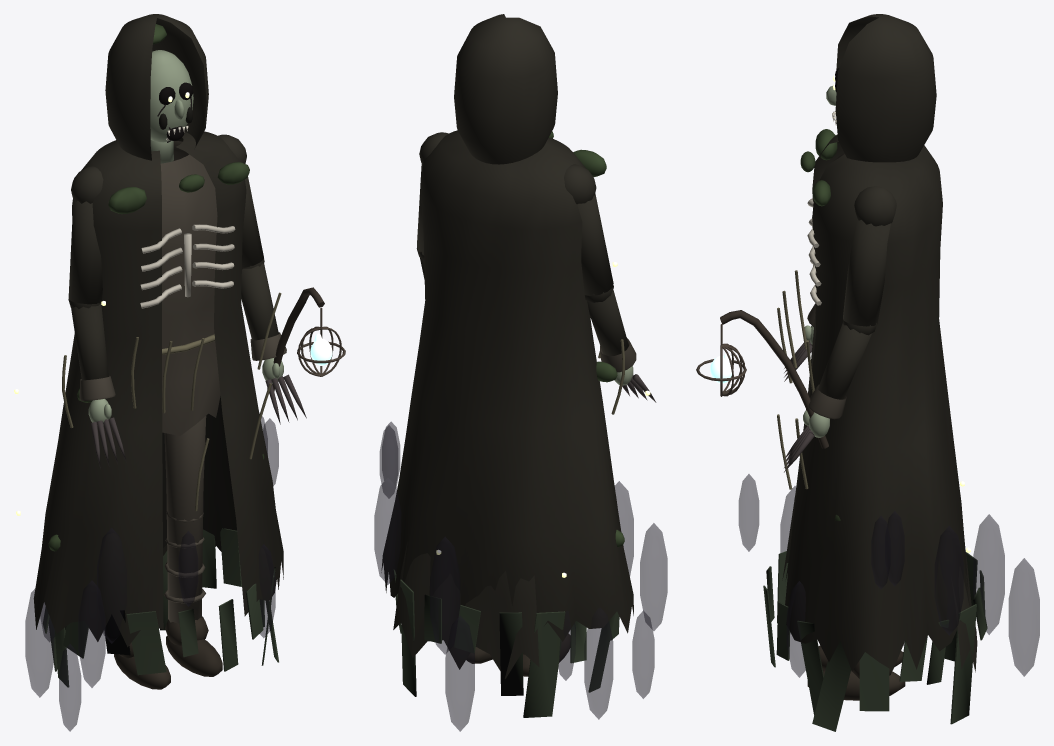
Rendered from bog_lantern_man.glb.
3 renders of one model, left to right at view 1: azimuth 30°, elevation 25°; view 2: azimuth 150°, elevation 25°; view 3: azimuth 270°, elevation 25°, orthographic. The views are drawn at different scales.
Visible parts, largest first — view 1: Cloak, Tunic, LanternMan_Root_HSmoke, LanternMan_Root_HRag_0c110a, Hood, LegB_MudRags, ArmA_PeatCloak, CloakIn, ArmB_PeatCloak, Head_GauntSkin, LanternMan_Root_HBone, LanternMan_Root_Reed (+10 smaller); view 2: Cloak, LanternMan_Root_HSmoke, Hood, LanternMan_Root_HRag_0c110a, CloakBack, ArmA_PeatCloak, LanternMan_Root_Moss, ArmB_PeatCloak, CuffArmA; view 3: Cloak, LanternMan_Root_HSmoke, Hood, LanternMan_Root_HRag_0c110a, ArmB_PeatCloak, LanternMan_Root_Reed, Stick, LanternMan_Root_Moss, CloakBack, ArmB_RustIron, CuffArmB, LegB_Mud (+1 smaller).
Boxes of the visible parts, x1,y1,x2,y2 form: Cloak: (33,131,283,647); Tunic: (160,141,220,435); LanternMan_Root_HSmoke: (25,413,278,731); LanternMan_Root_HRag_0c110a: (43,528,278,687); Hood: (105,14,208,160); LegB_MudRags: (164,416,206,623); ArmA_PeatCloak: (68,166,108,380); CloakIn: (162,396,236,551); ArmB_PeatCloak: (218,134,278,340); Head_GauntSkin: (150,50,193,163); LanternMan_Root_HBone: (140,224,235,308); LanternMan_Root_Reed: (62,292,281,511); Cloak: (381,130,633,641); LanternMan_Root_HSmoke: (374,421,667,731); Hood: (454,14,557,164); LanternMan_Root_HRag_0c110a: (393,569,619,717); CloakBack: (393,542,539,678); ArmA_PeatCloak: (564,164,628,355); LanternMan_Root_Moss: (549,131,624,547); ArmB_PeatCloak: (416,132,448,279); CuffArmA: (600,337,636,372); Cloak: (782,134,969,671); LanternMan_Root_HSmoke: (738,474,1039,677); Hood: (835,14,936,162); LanternMan_Root_HRag_0c110a: (763,551,987,731); ArmB_PeatCloak: (818,186,896,399); LanternMan_Root_Reed: (777,270,814,489); Stick: (720,310,828,448); LanternMan_Root_Moss: (800,129,840,520); CloakBack: (951,550,977,672); ArmB_RustIron: (696,324,746,396); CuffArmB: (808,384,846,419); LegB_Mud: (807,661,905,700).
Bounding box in the file's own units: 0.8151 × 1.97 × 0.8924.
